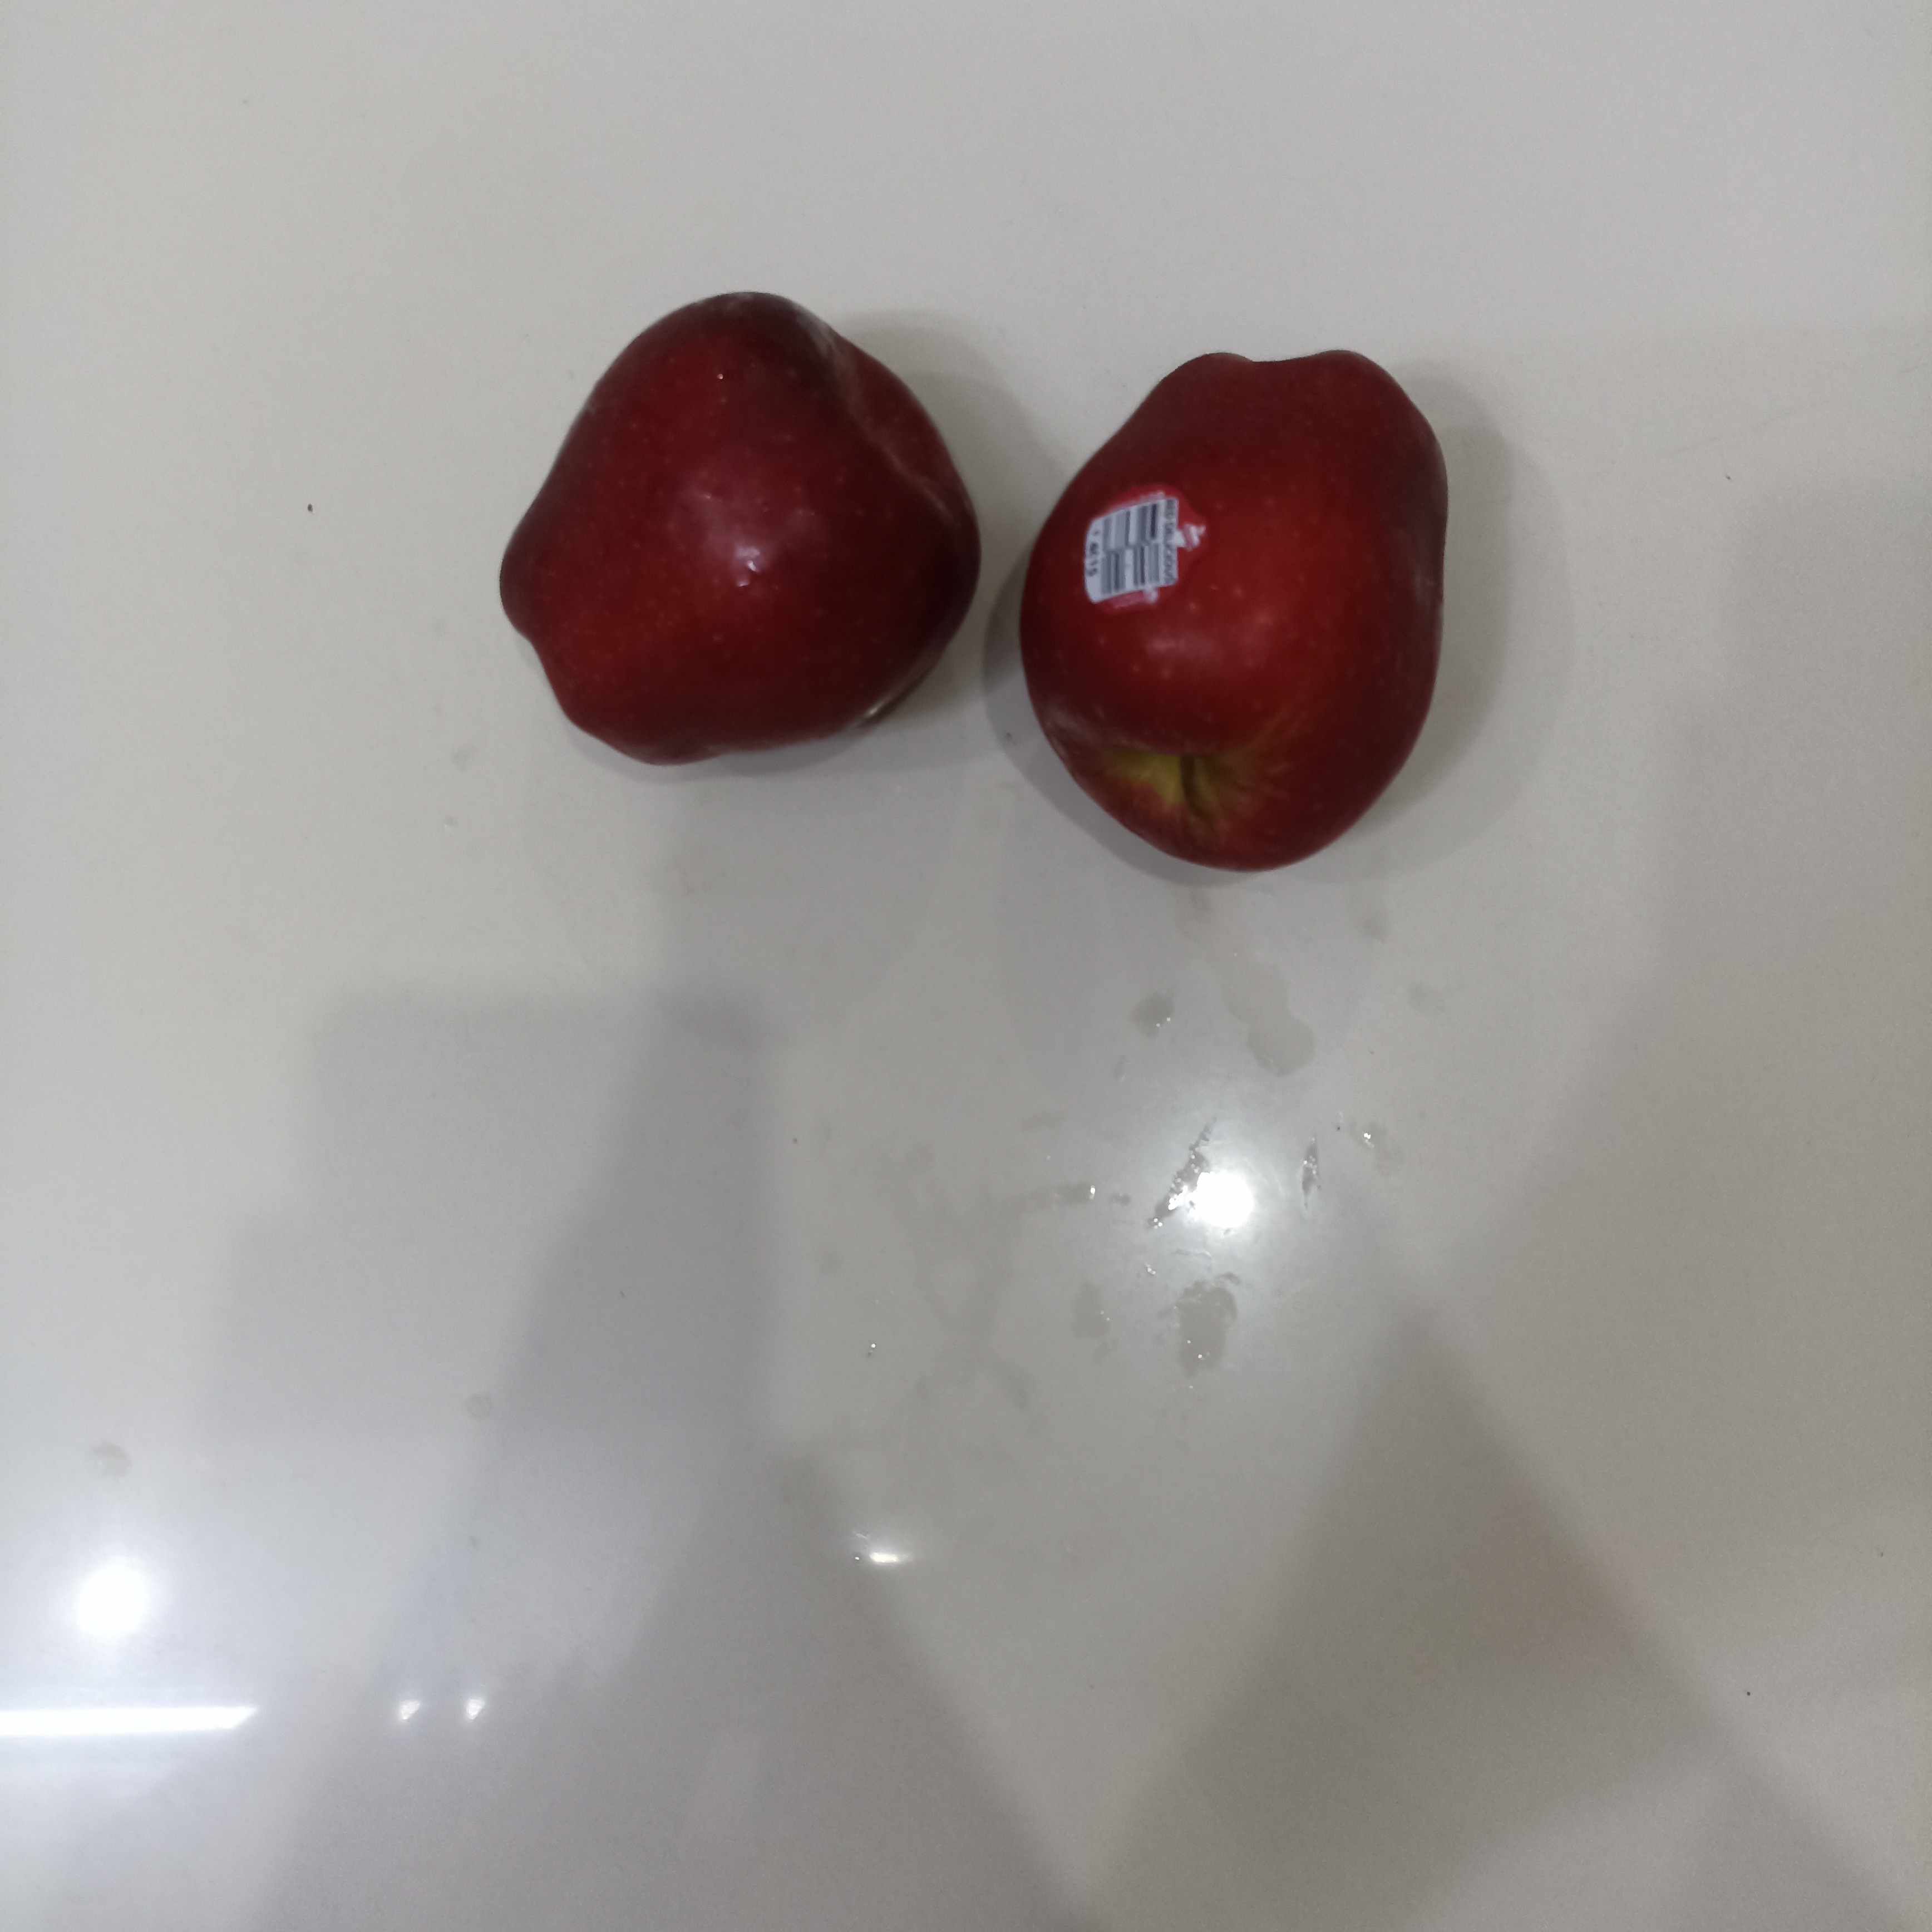Tao do: (1017, 340, 1458, 874), (502, 288, 985, 770)
